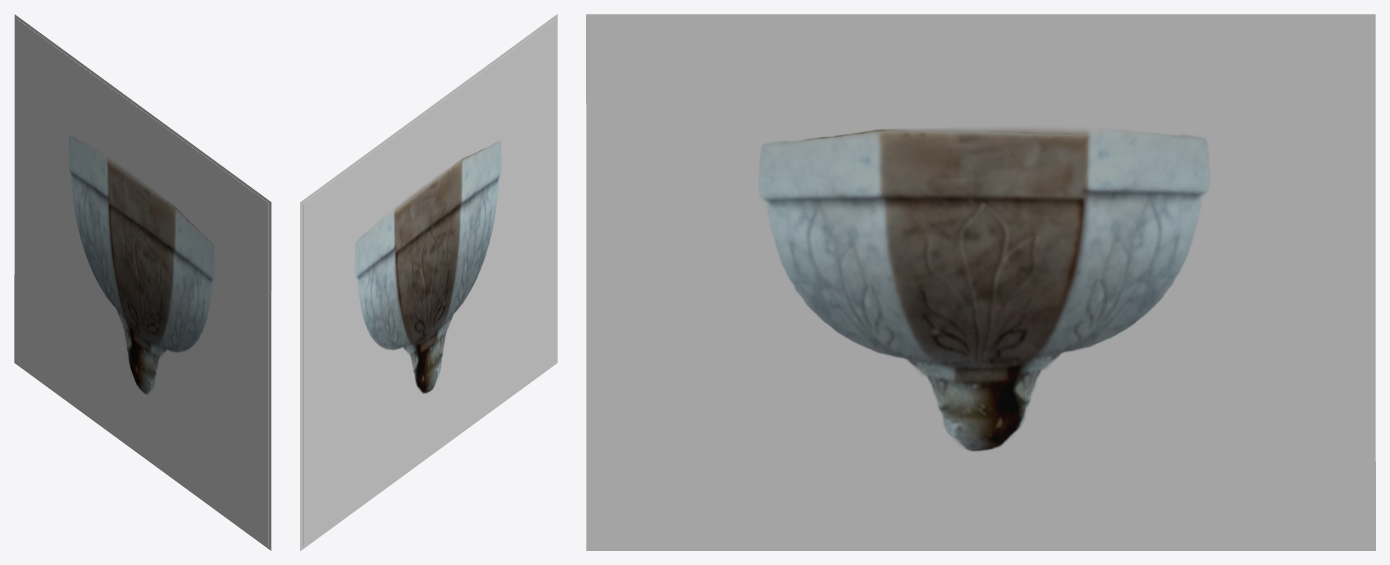
The model's file is 61. Kropielnica.glb.
The picture shows the model from 3 angles, left to right: view 1: azimuth 30°, elevation 25°; view 2: azimuth 150°, elevation 25°; view 3: azimuth 270°, elevation 25°; orthographic projection. The views are drawn at different scales.
Visible parts, largest first — view 1: Plane; view 2: Plane; view 3: Plane.
Boxes of the visible parts, x1,y1,x2,y2 form: Plane: [14, 14, 271, 550]; Plane: [300, 14, 557, 550]; Plane: [586, 14, 1375, 550].
Size of the model in its own units: 0.0246 by 12 by 16.
1 material, 1 textured.
